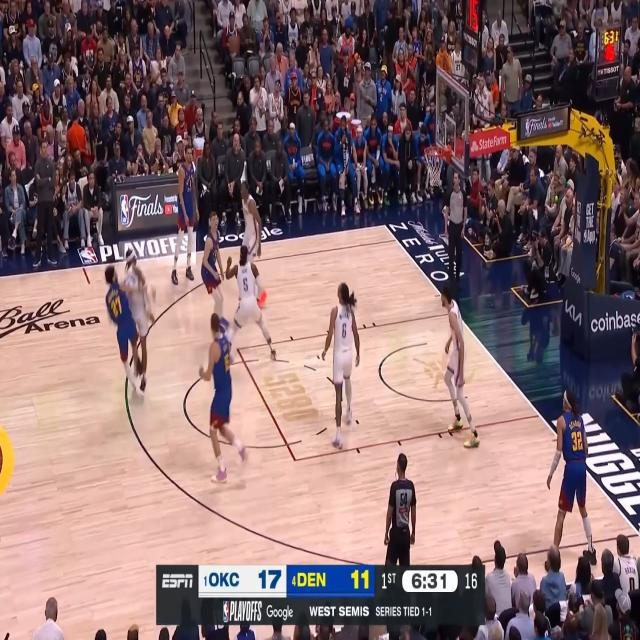ball: (228, 34, 240, 55)
number: (110, 295, 122, 319), (571, 430, 584, 452), (242, 277, 248, 292), (342, 320, 346, 339)
player: (542, 388, 598, 571), (199, 312, 247, 486), (438, 286, 481, 450), (321, 280, 360, 447), (224, 245, 278, 364), (104, 263, 141, 399), (122, 248, 156, 388), (170, 141, 200, 286), (237, 178, 268, 308), (199, 209, 230, 332)
referee: (383, 451, 416, 565), (444, 170, 468, 292)
rim: (422, 144, 446, 161)
